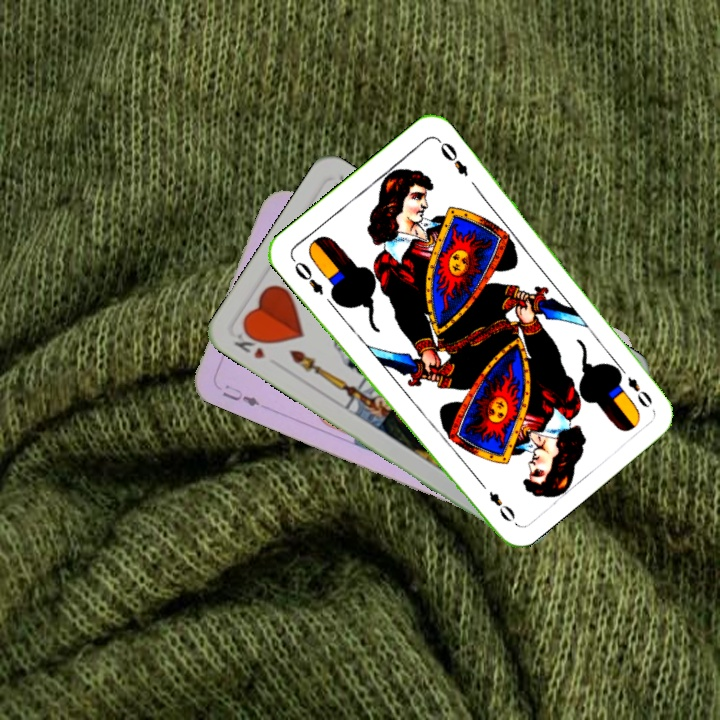EO: (612, 361, 655, 411), (288, 254, 326, 298)
EU: (219, 380, 263, 409)
HK: (229, 325, 270, 362)
